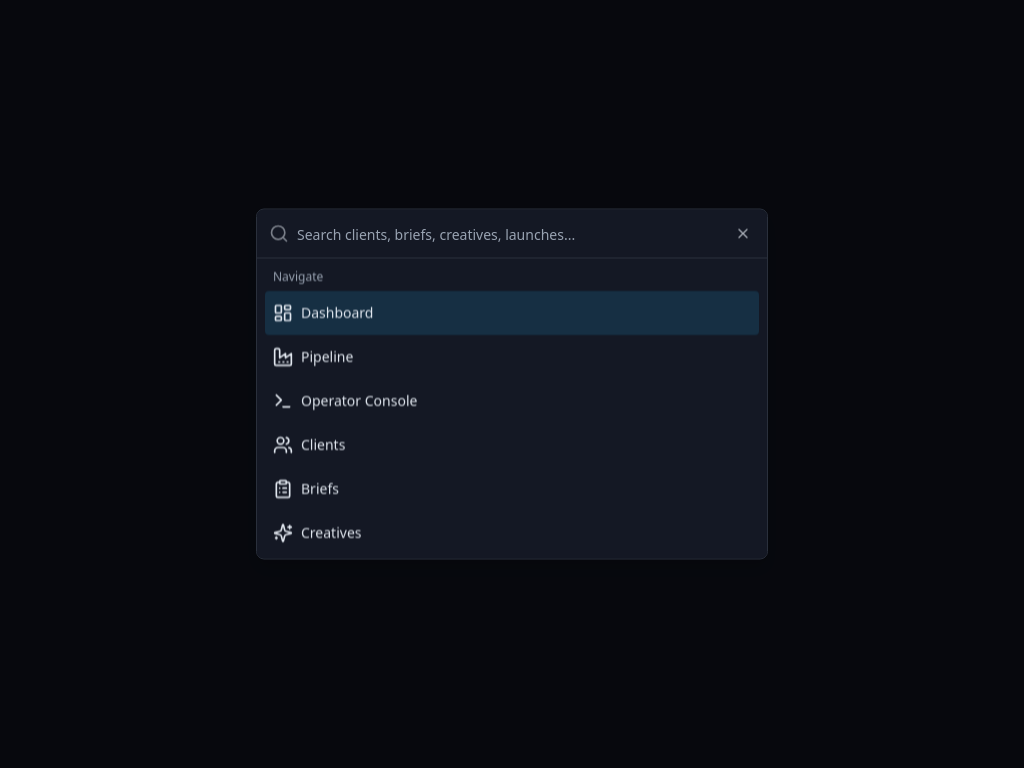
CommandPalette live search › debounces, queries /api/search, and renders grouped results
Type "roof" into the dropdown with placeholder "Search clients, briefs, creatives, launches...".
click(526, 234); type("roof")  # box [297,210,755,258]
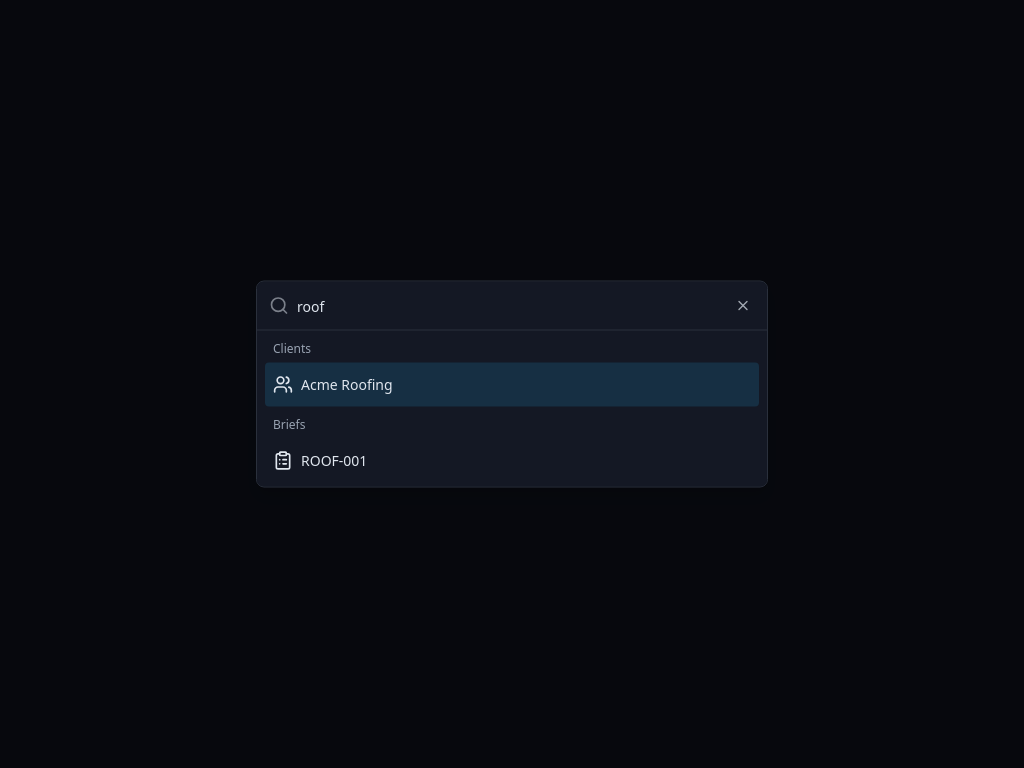
Now the text "Acme Roofing" is shown, box [301,374,393,394]
Now the text "ROOF-001" is shown, box [301,450,367,470]
Now the option "Dashboard" is gone
